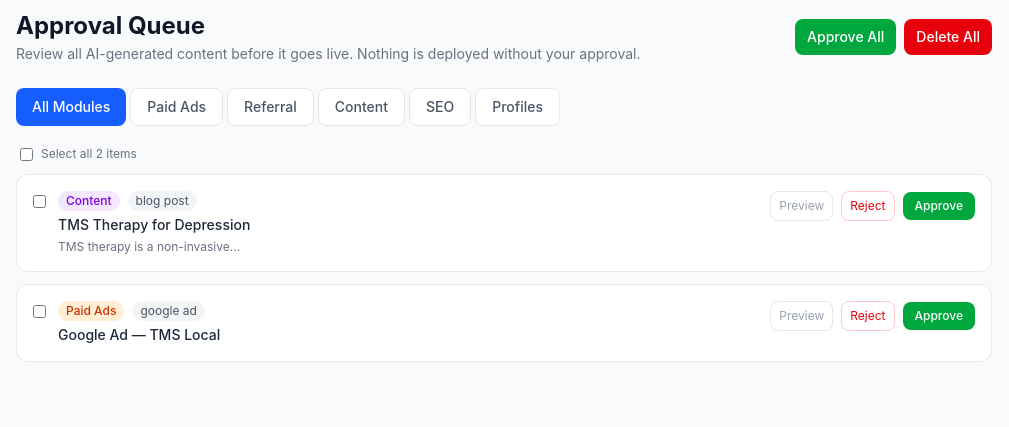
Test: Approval Queue page › shows preview when Preview is clicked
This screenshot has width=1009, height=427.
Click the button "Preview" in the row of "TMS Therapy for Depression" at [802, 206], box [770,191,833,221]
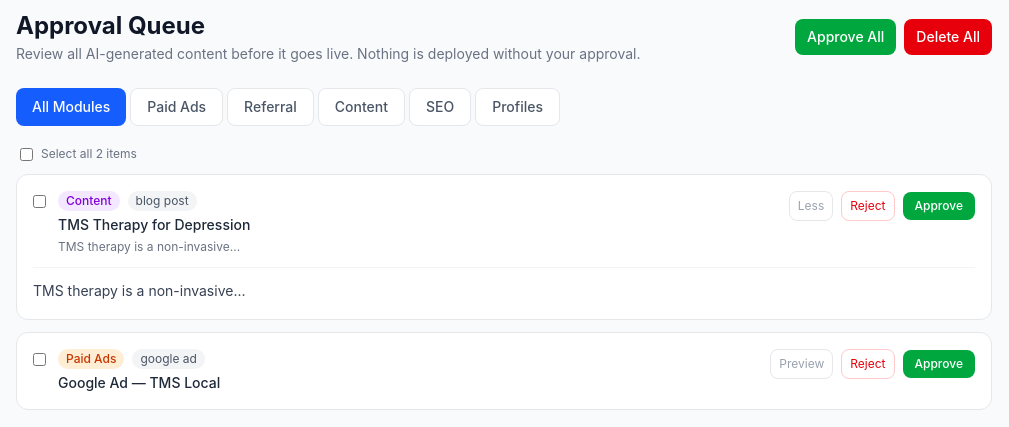
Check: the text "TMS therapy is a non-invasive..." below "TMS Therapy for Depression" is shown, box [58,239,240,254]
Check: the button "Less" is shown, box [789,191,833,221]
